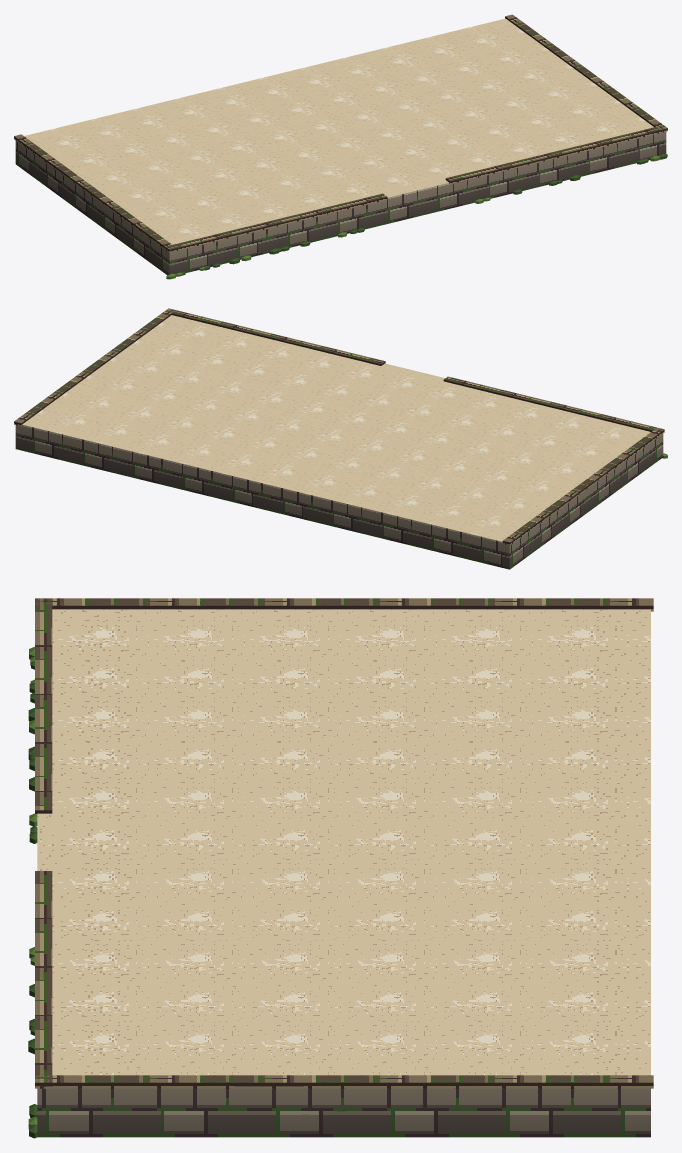
Rendered from scene_plat_c6.glb.
The picture shows the model from 3 angles, top to bottom: view 1: azimuth 30°, elevation 25°; view 2: azimuth 150°, elevation 25°; view 3: azimuth 270°, elevation 25°; orthographic projection. The views are drawn at different scales.
Visible parts, largest first — view 1: scene_plat_c6; view 2: scene_plat_c6; view 3: scene_plat_c6.
Part boxes in pixels (left/top/right/bottom): scene_plat_c6: left=14, top=14, right=667, bottom=279; scene_plat_c6: left=14, top=308, right=667, bottom=569; scene_plat_c6: left=28, top=598, right=653, bottom=1138.
Bounding box in the file's own units: 24.05 × 1.37 × 13.04.
Materials: 3 (2 with a texture image).
